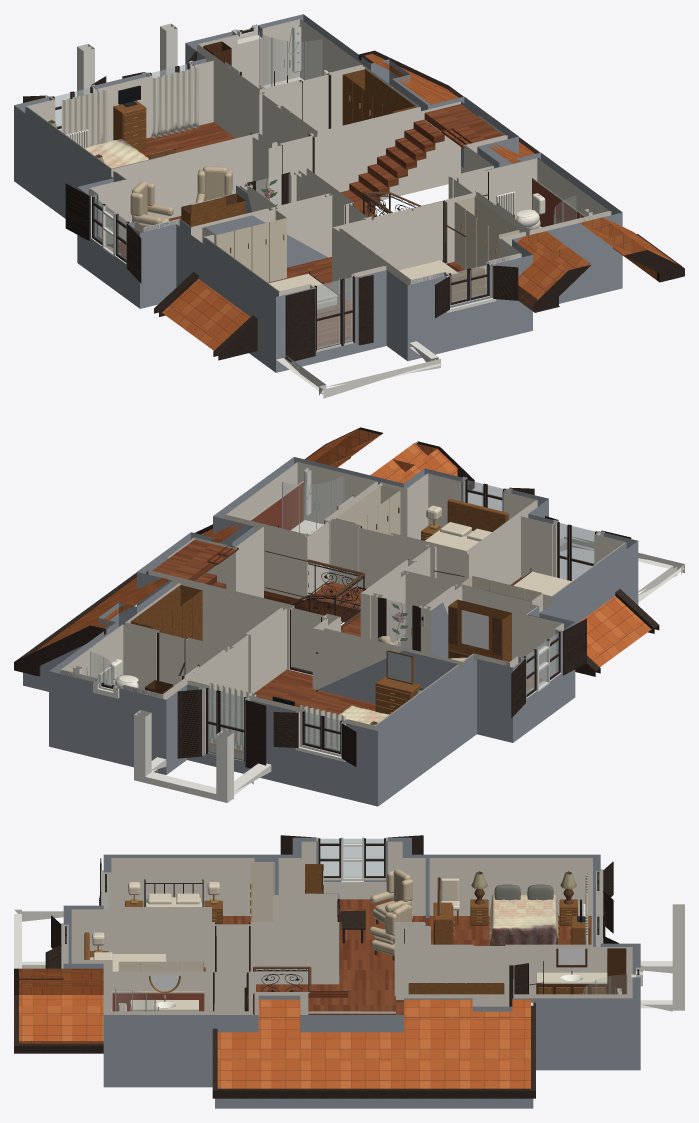
File: floor-2.glb
3 renders of one model, top to bottom at view 1: azimuth 30°, elevation 25°; view 2: azimuth 150°, elevation 25°; view 3: azimuth 270°, elevation 25°, orthographic. The views are drawn at different scales.
Visible parts, largest first — view 1: fixed | interior, fixed | stucco, fixed | wood_dark, fixed | roof, fixed | wood_floor, furniture | linen, fixed | glass, furniture | wood_honey, fixed | white_trim, fixed | curtain_sheer, furniture | fabric, fixed | ceramic (+2 smaller); view 2: fixed | interior, fixed | stucco, fixed | wood_dark, fixed | glass, fixed | roof, fixed | white_trim, furniture | wood_honey, fixed | wood_floor, furniture | linen, fixed | curtain_sheer, fixed | Bathroom lower terracotta, fixed | metal (+6 smaller); view 3: fixed | interior, fixed | roof, fixed | stucco, fixed | wood_dark, fixed | wood_floor, fixed | white_trim, furniture | wood_honey, furniture | linen, furniture | Master quilt — photo projection, fixed | glass, furniture | fabric, fixed | Bathroom cream marble (+6 smaller).
Part boxes in pixels (box(x1,y1,x2,y2)): fixed | interior: box(26, 19, 611, 352); fixed | stucco: box(14, 14, 622, 372); fixed | wood_dark: box(23, 27, 684, 361); fixed | roof: box(162, 54, 676, 350); fixed | wood_floor: box(110, 104, 509, 347); furniture | linen: box(205, 197, 519, 310); fixed | glass: box(54, 28, 575, 349); furniture | wood_honey: box(113, 69, 485, 301); fixed | white_trim: box(45, 23, 592, 398); fixed | curtain_sheer: box(61, 68, 198, 146); furniture | fabric: box(130, 166, 232, 227); fixed | ceramic: box(66, 70, 545, 230); fixed | interior: box(60, 461, 626, 761); fixed | stucco: box(23, 457, 638, 806); fixed | wood_dark: box(14, 427, 659, 768); fixed | glass: box(91, 476, 594, 760); fixed | roof: box(36, 429, 651, 666); fixed | white_trim: box(73, 468, 684, 802); furniture | wood_honey: box(130, 499, 511, 714); fixed | wood_floor: box(146, 539, 542, 754); furniture | linen: box(336, 485, 571, 601); fixed | curtain_sheer: box(209, 682, 345, 750); fixed | Bathroom lower terracotta: box(251, 482, 303, 530); fixed | metal: box(293, 562, 364, 623); fixed | interior: box(71, 841, 635, 1014); fixed | roof: box(19, 968, 530, 1088); fixed | stucco: box(63, 837, 640, 1108); fixed | wood_dark: box(14, 835, 639, 1098); fixed | wood_floor: box(204, 899, 591, 1014); fixed | white_trim: box(14, 837, 684, 1011); furniture | wood_honey: box(84, 864, 590, 994); furniture | linen: box(89, 863, 459, 971); furniture | Master quilt — photo projection: box(489, 893, 558, 945); fixed | glass: box(66, 839, 625, 1010); furniture | fabric: box(369, 869, 412, 955); fixed | Bathroom cream marble: box(111, 972, 607, 1011).
Size of the model in its own units: 12.19 by 2.2 by 16.87.
34 materials, 34 textured.
